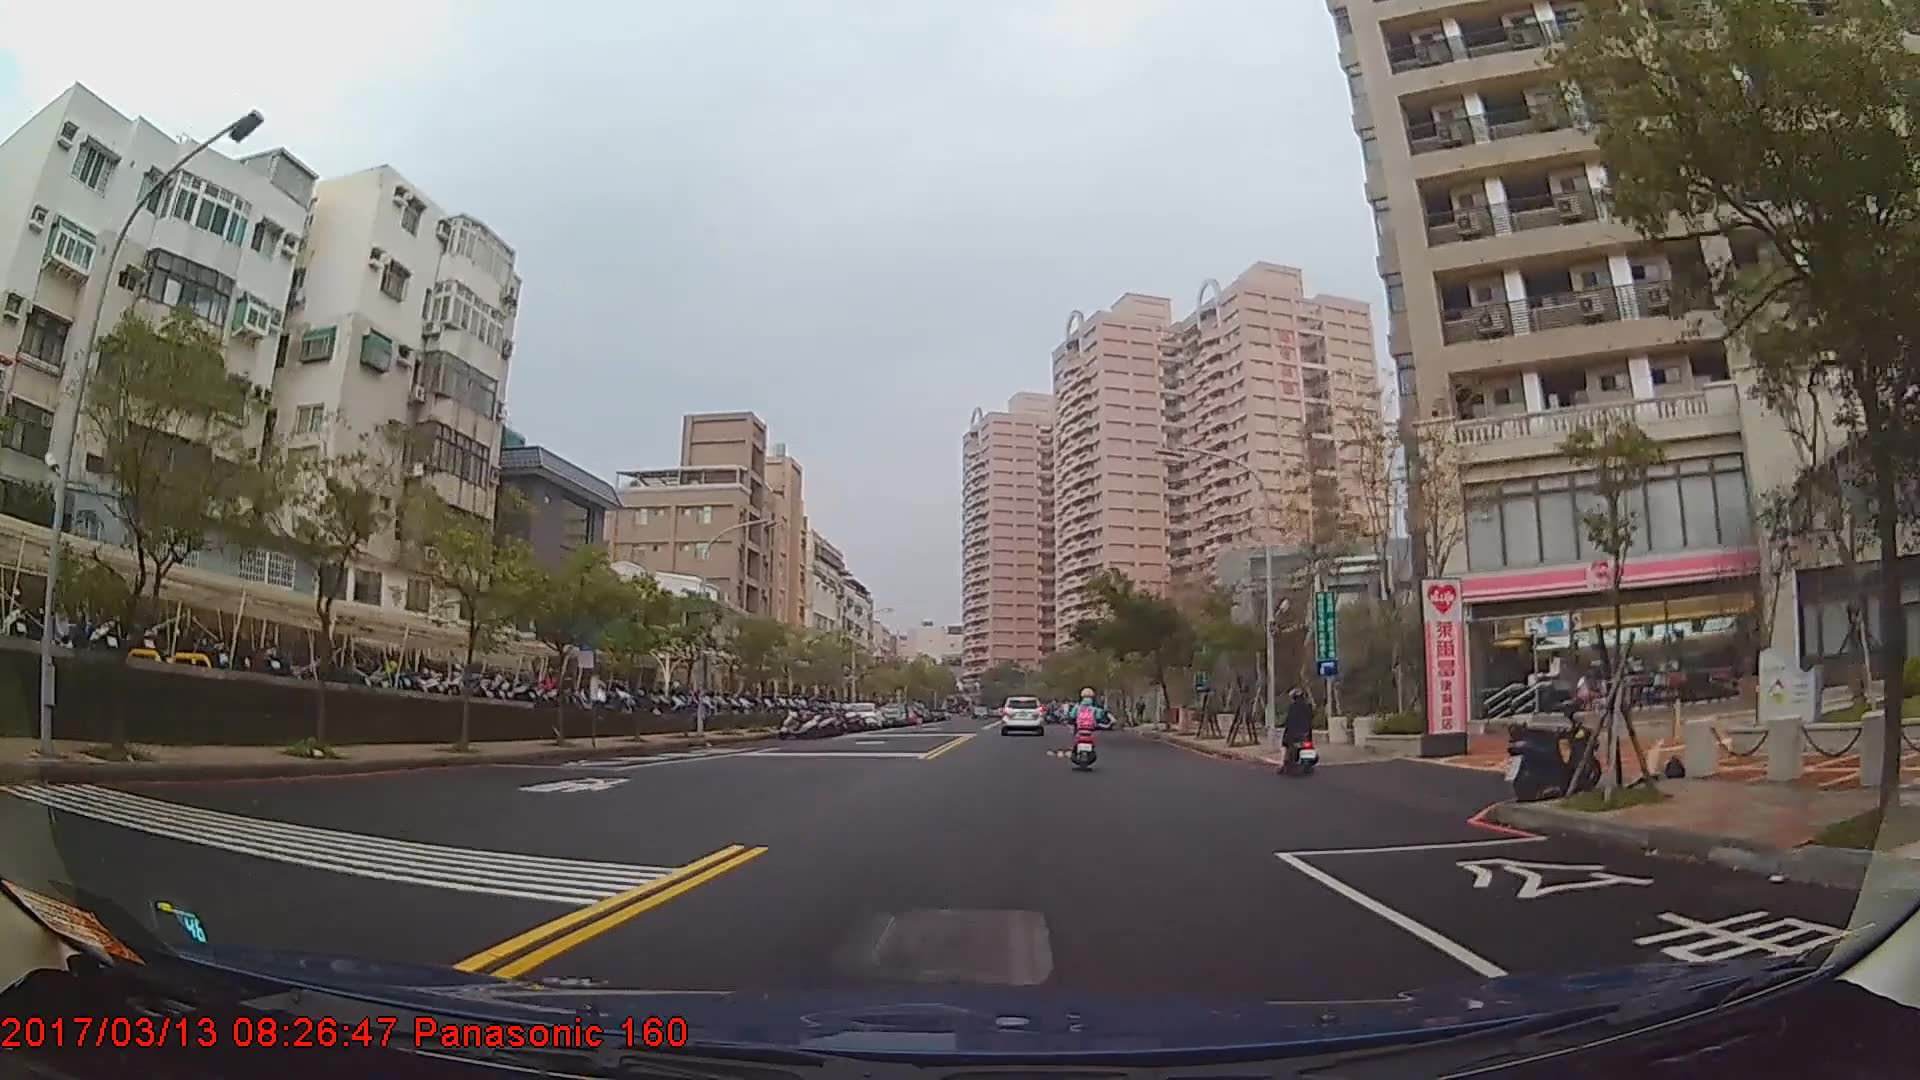rider: (1277, 687, 1321, 773), (1067, 689, 1106, 770)
vehicle: (996, 693, 1047, 736), (842, 701, 879, 729)
